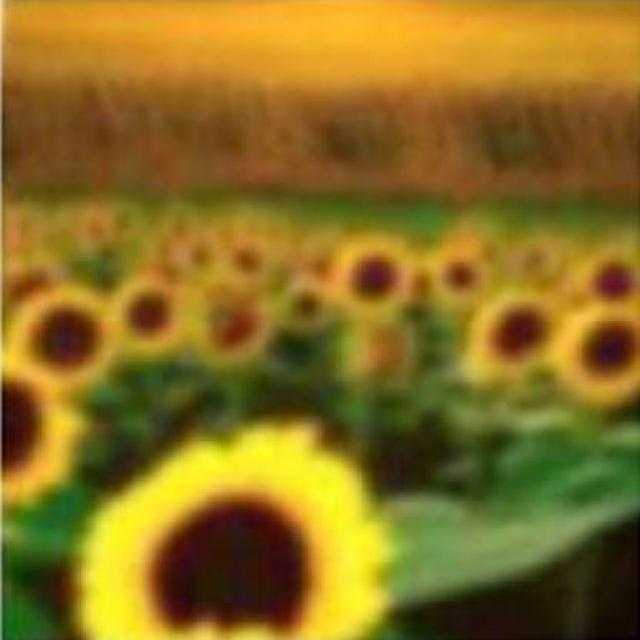sunflower: (71, 421, 394, 640), (8, 281, 119, 383), (555, 300, 640, 405), (330, 232, 420, 320)
